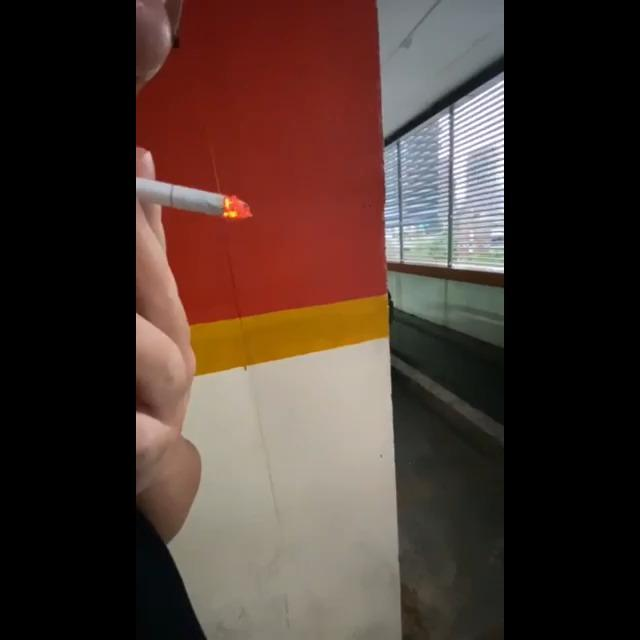rokok: (137, 165, 263, 235)
